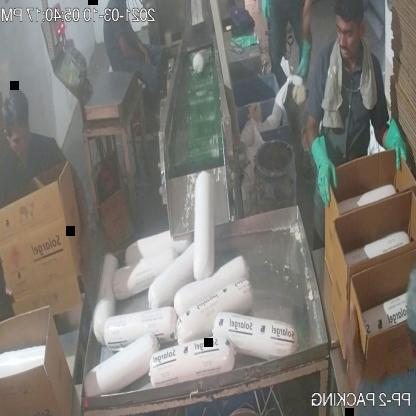glove: (310, 124, 338, 218), (380, 116, 412, 170)
no_glove: (339, 297, 368, 416), (66, 159, 92, 285), (115, 29, 150, 66)
